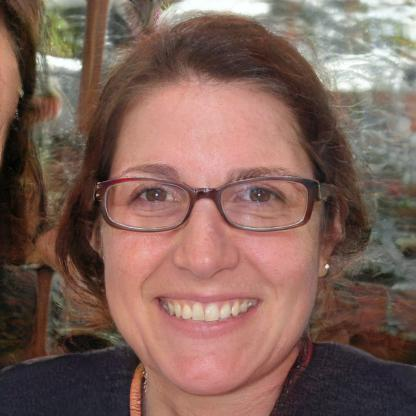glasses: (90, 173, 322, 239)
